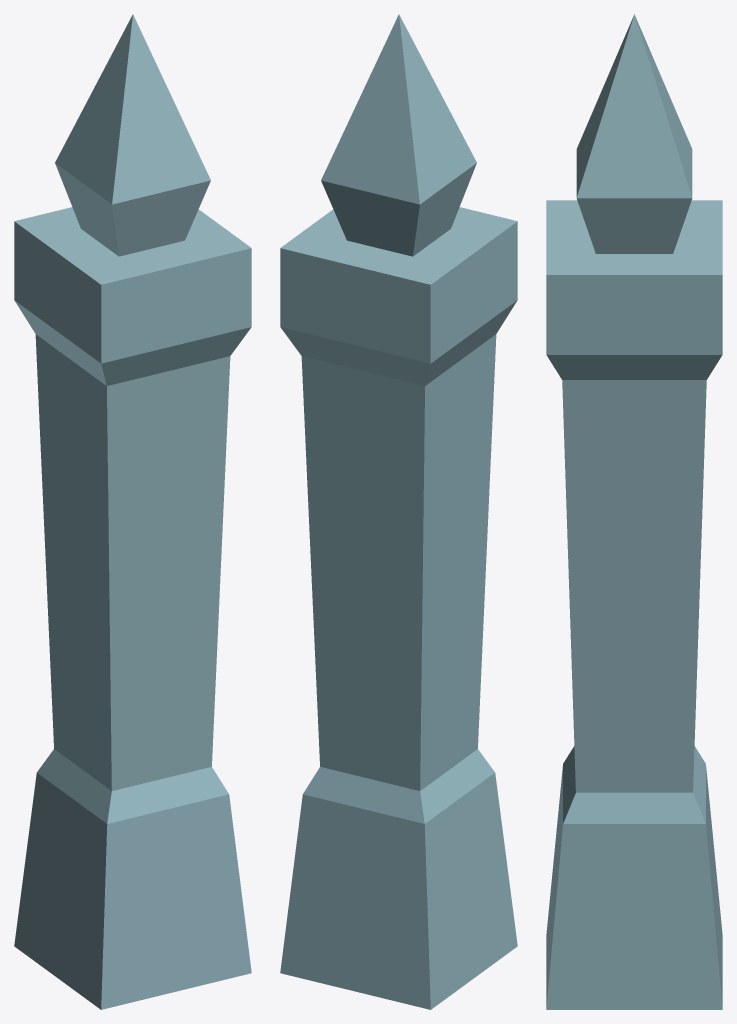
Rendered from pillarSmall.fbx.
3 views of the same model, side by side, from view 1: azimuth 30°, elevation 25°; view 2: azimuth 150°, elevation 25°; view 3: azimuth 270°, elevation 25° (orthographic).
Parts seen in each view (by area): view 1: pillarSmall; view 2: pillarSmall; view 3: pillarSmall.
Part boxes in pixels (x1,y1,x2,y2): pillarSmall: [14, 14, 251, 1009]; pillarSmall: [280, 14, 517, 1009]; pillarSmall: [546, 14, 722, 1009].
Bounding box in the file's own units: 1 × 6 × 1.
